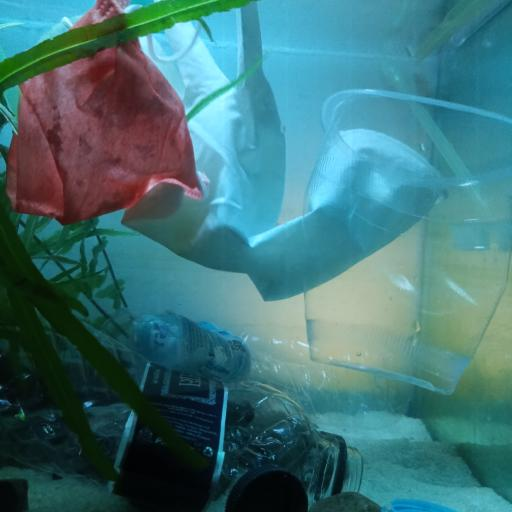bottle_cap: (224, 464, 309, 512), (384, 497, 454, 512)
glove: (119, 0, 446, 303)
mask: (6, 0, 206, 228)
plastic_bottle: (1, 309, 365, 500), (97, 309, 413, 424)
plastic_cup: (299, 86, 511, 396)
plastic_straw: (375, 52, 491, 212)
